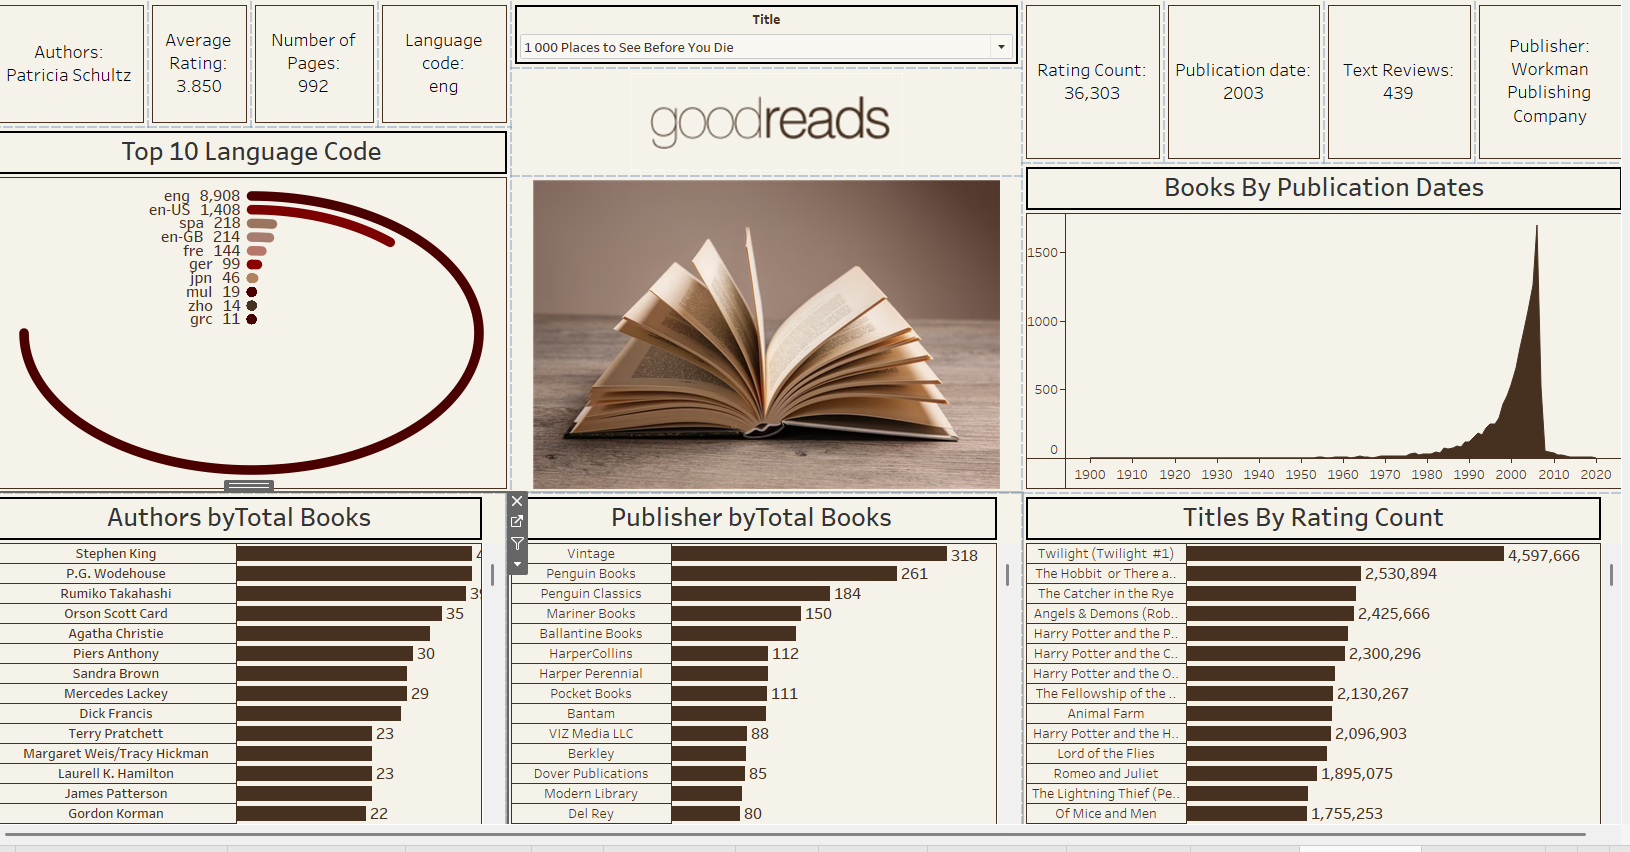

Layout of this report page (visuals, bound fields, positions):
{"tool":"tableau","page":{"name":"Dashboard 1","canvas":[1650,1000],"ordinal":0},"visuals":[{"type":"worksheet","title":"Authors","mark":"Automatic","box":[8,8,156,126]},{"type":"worksheet","title":"Average Rating","mark":"Automatic","box":[164,8,103.3,126]},{"type":"worksheet","title":"Number of Pages","mark":"Automatic","box":[267.3,8,126.7,126]},{"type":"worksheet","title":"Language Code","mark":"Automatic","box":[394,8,132.5,126]},{"type":"filter","title":"Authors","param":"[federated.0a93qm31rjjl9x1d0pv1m0928oir].[none:title:nk]","box":[526.5,8,511.3,67]},{"type":"worksheet","title":"Rating Count","mark":"Automatic","box":[1037.9,8,142.1,162]},{"type":"worksheet","title":"Publication date","mark":"Automatic","box":[1180,8,159.9,162]},{"type":"worksheet","title":"Text Reviews","mark":"Automatic","box":[1339.9,8,151.1,162]},{"type":"worksheet","title":"Publisher","mark":"Automatic","box":[1491,8,151,162]},{"type":"image","param":"C:/Users/SHUSHREE SWAIN/OneDrive/Desktop/goodbooks/Capture.PNG","box":[526.5,75,511.3,108]},{"type":"worksheet","title":"Top 10 Language Code","mark":"Line","box":[8,134,518.5,366]},{"type":"worksheet","title":"Books By Publication Dates","mark":"Area","rows":["bookID"],"cols":["publication_date"],"box":[1037.9,170,604.1,330]},{"type":"image","param":"C:/Users/SHUSHREE SWAIN/OneDrive/Desktop/goodbooks/book.PNG","box":[526.5,183,511.3,317]},{"type":"worksheet","title":"Authors byTotal Books","mark":"Automatic","rows":["authors"],"cols":["bookID"],"box":[8,500,515,492]},{"type":"worksheet","title":"Publisher byTotal Books ","mark":"Automatic","rows":["publisher"],"cols":["bookID"],"box":[523,500,514.9,492]},{"type":"worksheet","title":"Titles By Rating Count","mark":"Automatic","rows":["title"],"cols":["Calculation_1180506118814638082"],"box":[1037.9,500,604.1,492]}]}

Visuals, with their boxes on the page's 1650x1000 design canvas (x1, y1, x2, y2). These are canvas units, not pixel positions in the 1630x852 screenshot, which may show the page scaled, cropped or inside an application window:
"Authors" worksheet: [8,8,164,134]
"Average Rating" worksheet: [164,8,267,134]
"Number of Pages" worksheet: [267,8,394,134]
"Language Code" worksheet: [394,8,526,134]
"Authors" filter: [526,8,1038,75]
"Rating Count" worksheet: [1038,8,1180,170]
"Publication date" worksheet: [1180,8,1340,170]
"Text Reviews" worksheet: [1340,8,1491,170]
"Publisher" worksheet: [1491,8,1642,170]
image: [526,75,1038,183]
"Top 10 Language Code" worksheet (Line marks): [8,134,526,500]
"Books By Publication Dates" worksheet (Area marks): [1038,170,1642,500]
image: [526,183,1038,500]
"Authors byTotal Books" worksheet: [8,500,523,992]
"Publisher byTotal Books " worksheet: [523,500,1038,992]
"Titles By Rating Count" worksheet: [1038,500,1642,992]
